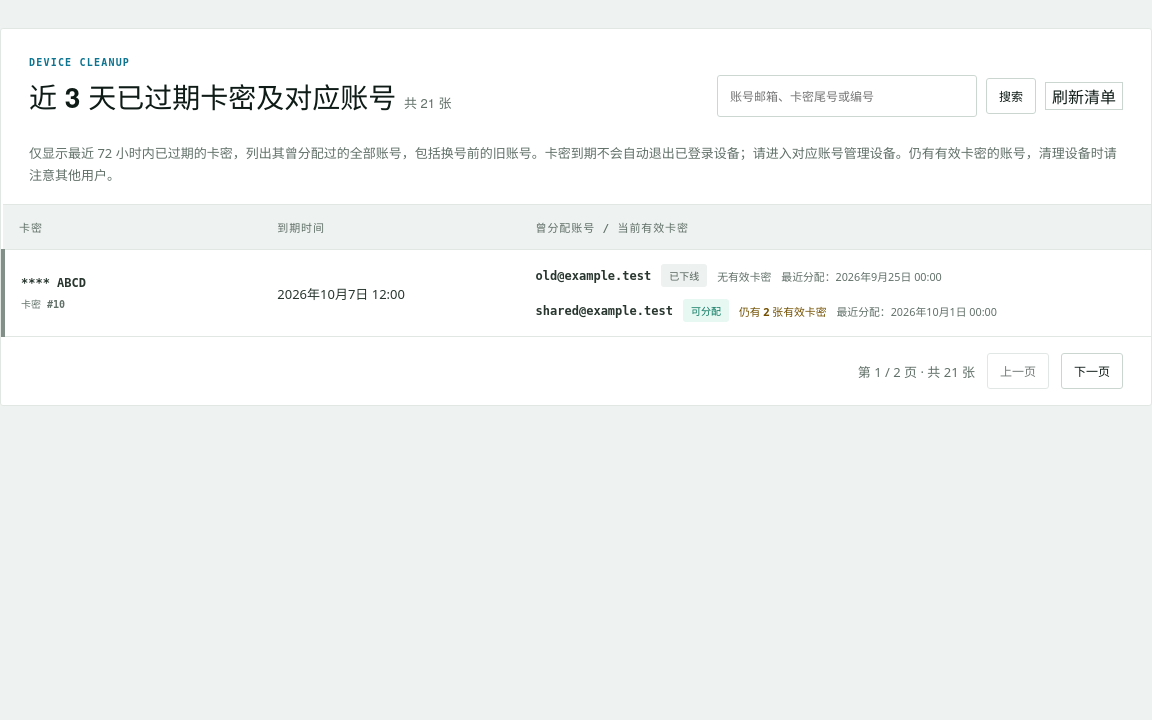
Test: Expired card cleanup panel › paginates and searches server-side, resetting the page for a new filter
Click the button "下一页".
click(1092, 371)  # box [1061,353,1123,389]
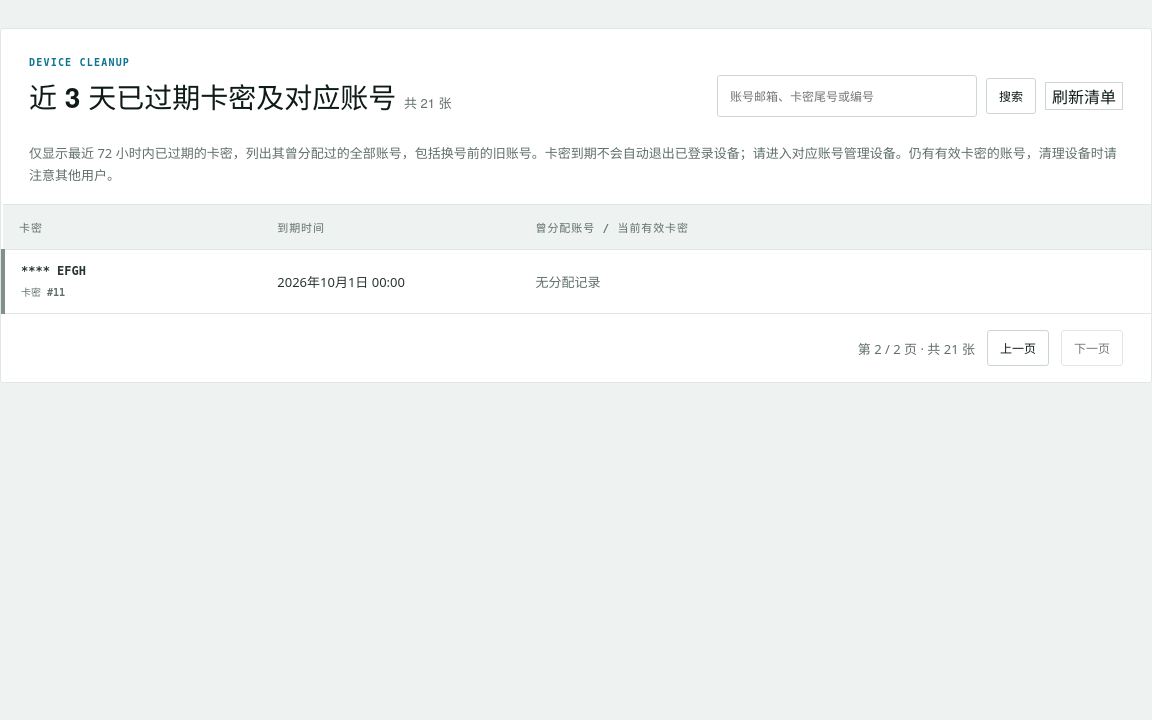
Result: the text "无分配记录" is shown at [536,273,601,291]
Type " shared@example.test " into the field with placeholder "账号邮箱、卡密尾号或编号".
click(847, 96); type(" shared@example.test ")  # box [717,75,977,117]
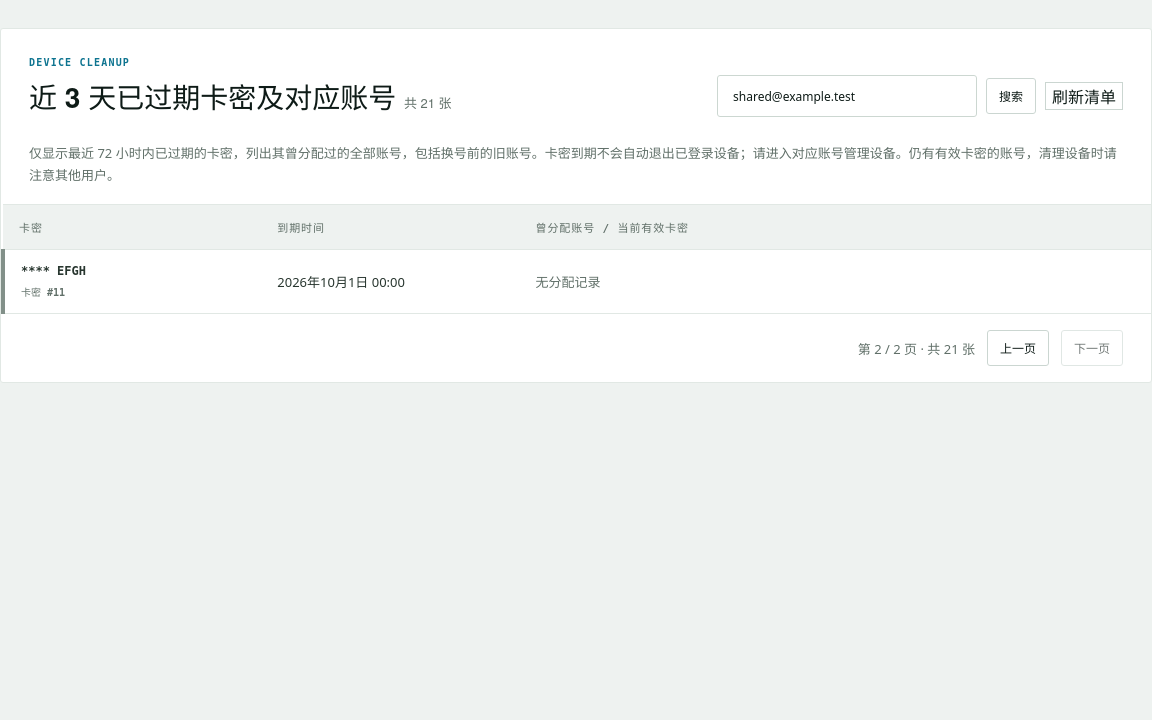
Submit the form, box [717,75,1123,117]
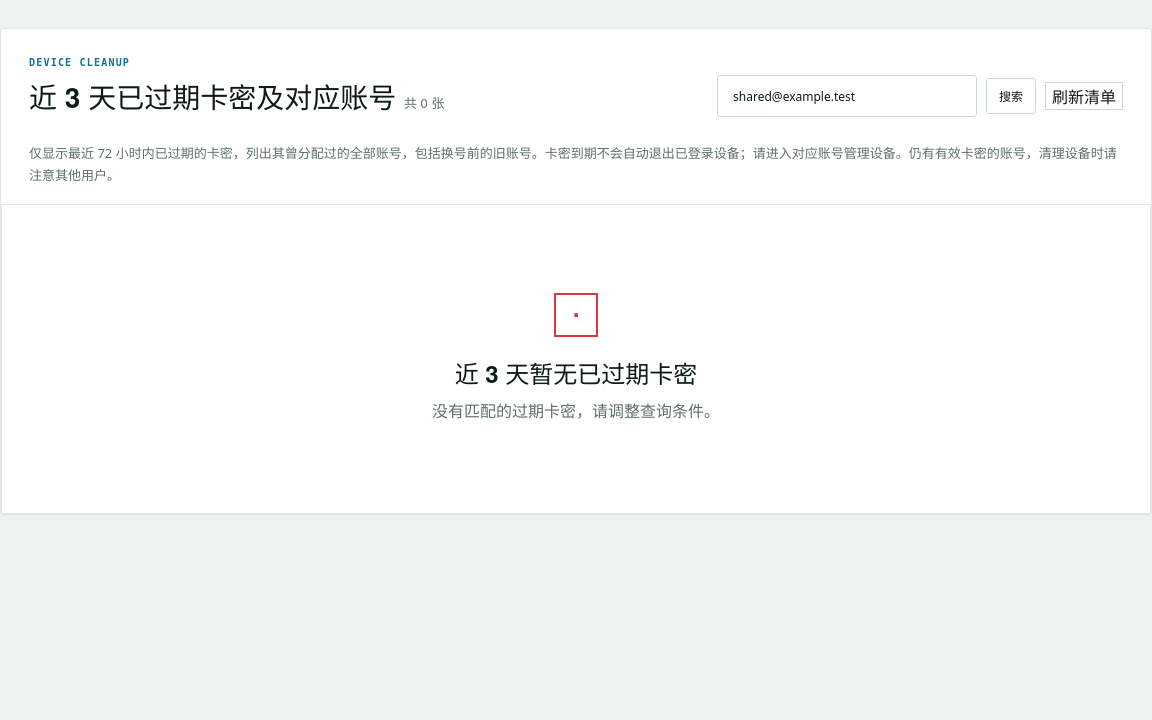
Result: the text "没有匹配的过期卡密" is shown at [432,400,720,422]
